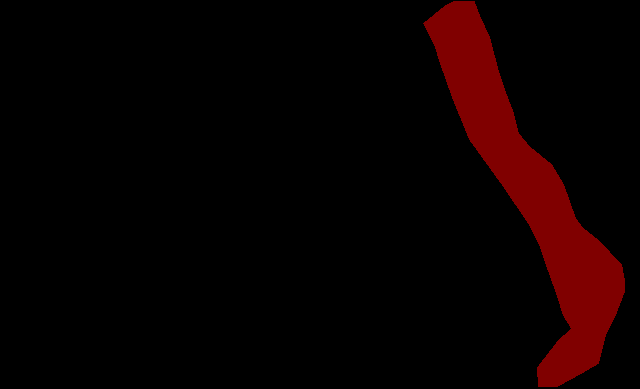fire: (423, 1, 624, 386)
